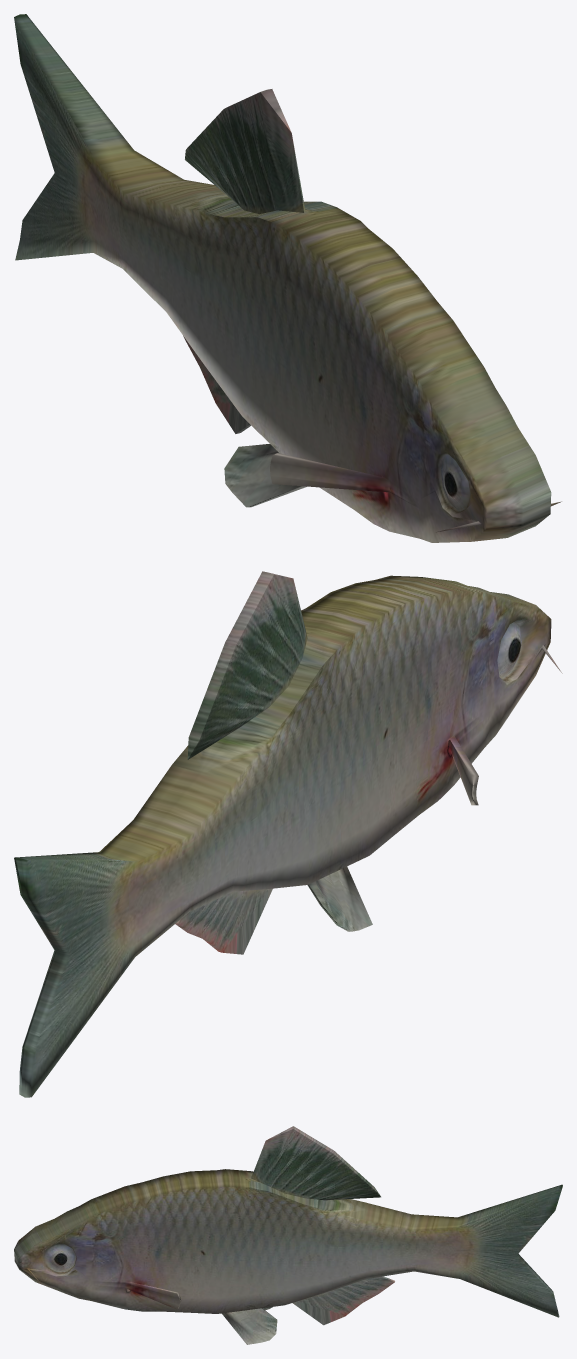
File: yaritanago_model.fbx
The picture shows the model from 3 angles, top to bottom: view 1: azimuth 30°, elevation 25°; view 2: azimuth 150°, elevation 25°; view 3: azimuth 270°, elevation 25°; orthographic projection. The views are drawn at different scales.
Visible parts, largest first — view 1: pCube1; view 2: pCube1; view 3: pCube1.
Part boxes in pixels (x1,y1,x2,y2): pCube1: (14, 14, 561, 542); pCube1: (14, 571, 562, 1097); pCube1: (14, 1126, 562, 1344).
Size of the model in its own units: 1.76 by 3.14 by 7.73.
